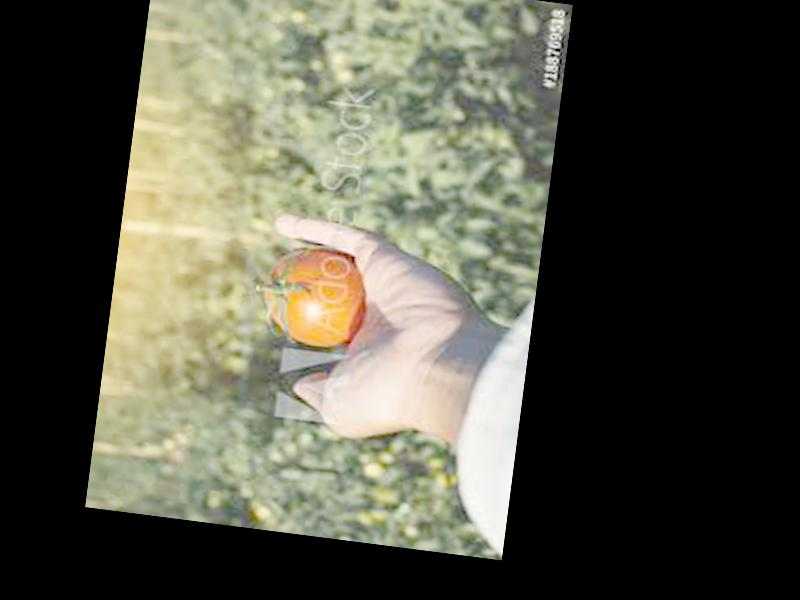Tomato: (260, 241, 367, 348)
